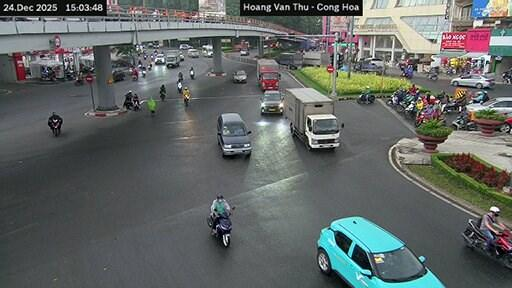motorbike: (485, 229, 511, 268), (207, 211, 230, 247), (461, 220, 486, 250), (415, 108, 444, 126), (441, 97, 466, 112), (386, 90, 403, 112), (452, 115, 476, 129), (469, 90, 489, 103), (358, 91, 374, 103), (403, 102, 415, 117), (51, 118, 60, 135), (41, 71, 56, 80), (502, 68, 511, 82), (400, 68, 412, 77), (122, 98, 131, 108), (444, 67, 455, 75), (182, 94, 189, 106), (74, 76, 83, 85), (67, 71, 76, 80), (176, 81, 182, 93), (428, 72, 437, 79), (178, 72, 182, 81), (141, 70, 146, 76), (162, 90, 165, 100), (131, 75, 137, 80), (189, 70, 192, 79), (133, 99, 138, 104), (133, 104, 137, 109), (231, 207, 233, 208)
